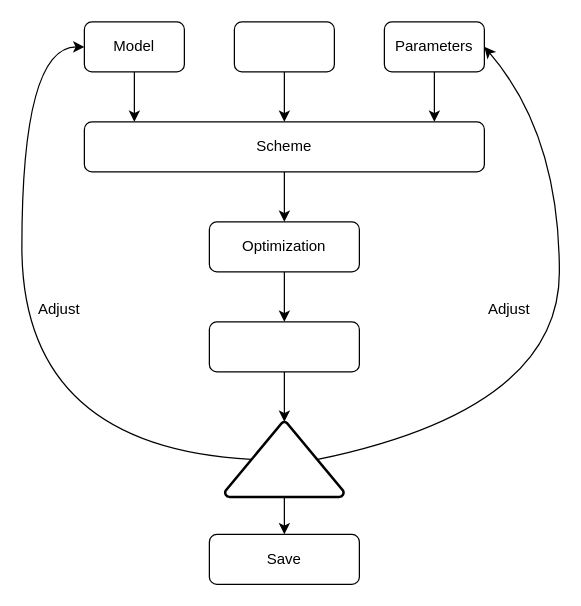
Some shapes in this 581 by 606 pixel diagram are drawn without their labels. The centre of each missing label's shape, as x and y in pixels:
"Data" belongs at [283,46].
"Evaluate" belongs at [283,459].
"Result" belongs at [283,346].
